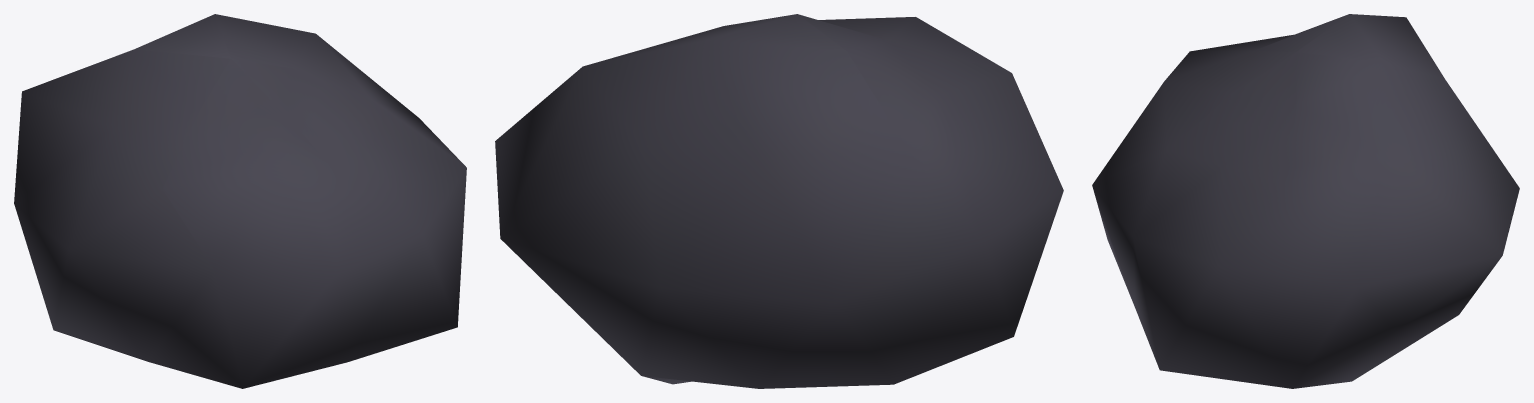
File: Rock1.fbx
3 renders of one model, left to right at view 1: azimuth 30°, elevation 25°; view 2: azimuth 150°, elevation 25°; view 3: azimuth 270°, elevation 25°, orthographic. The views are drawn at different scales.
Visible parts, largest first — view 1: Rock1; view 2: Rock1; view 3: Rock1.
Part boxes in pixels (<box>): Rock1: <box>14,14,466,388</box>; Rock1: <box>495,14,1063,388</box>; Rock1: <box>1092,14,1519,388</box>.
Size of the model in its own units: 248 by 180 by 232.
